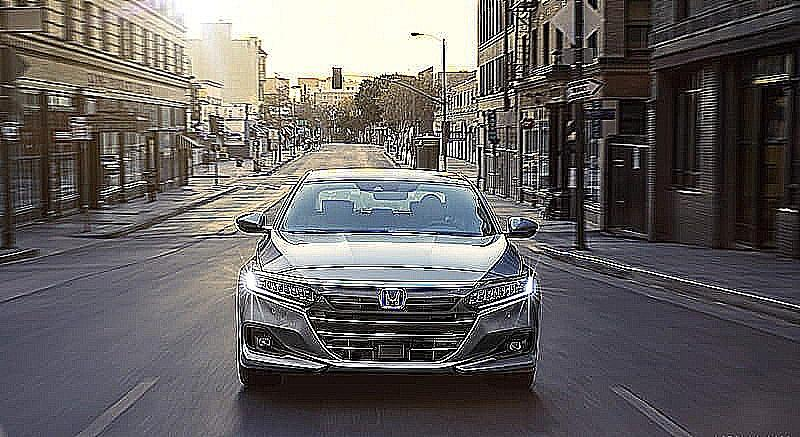Car hood: (250, 229, 523, 281)
Front bumper: (235, 271, 541, 382)
Headlight - -L-: (462, 277, 539, 316)
Headlight - -R-: (244, 270, 321, 312)
Side mirror - -L-: (507, 216, 541, 243)
Side mirror - -R-: (234, 209, 272, 235)
